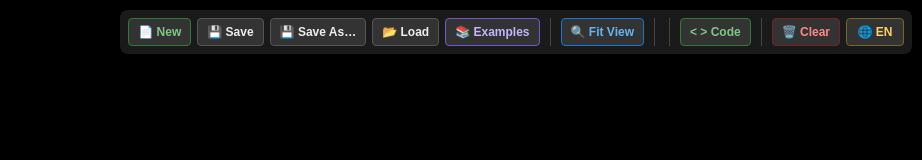
Scenario: Toolbar language switch › uses English by default and persists a switch to Polish
expect the button "📚 Examples" is shown: met, box [445,18,540,46]
Click the button with aria-label "Language: English. Switch to Polish" at (875, 32), box [846,18,904,46]
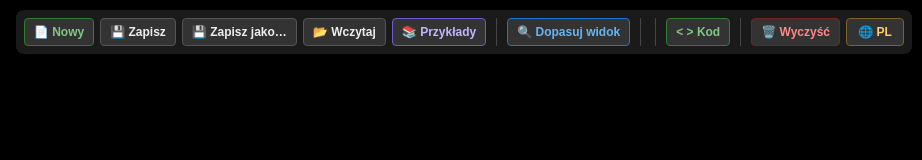
expect the button "📚 Przykłady" is shown: met, box [392,18,486,46]
expect the button "📂 Wczytaj" is shown: met, box [303,18,386,46]
